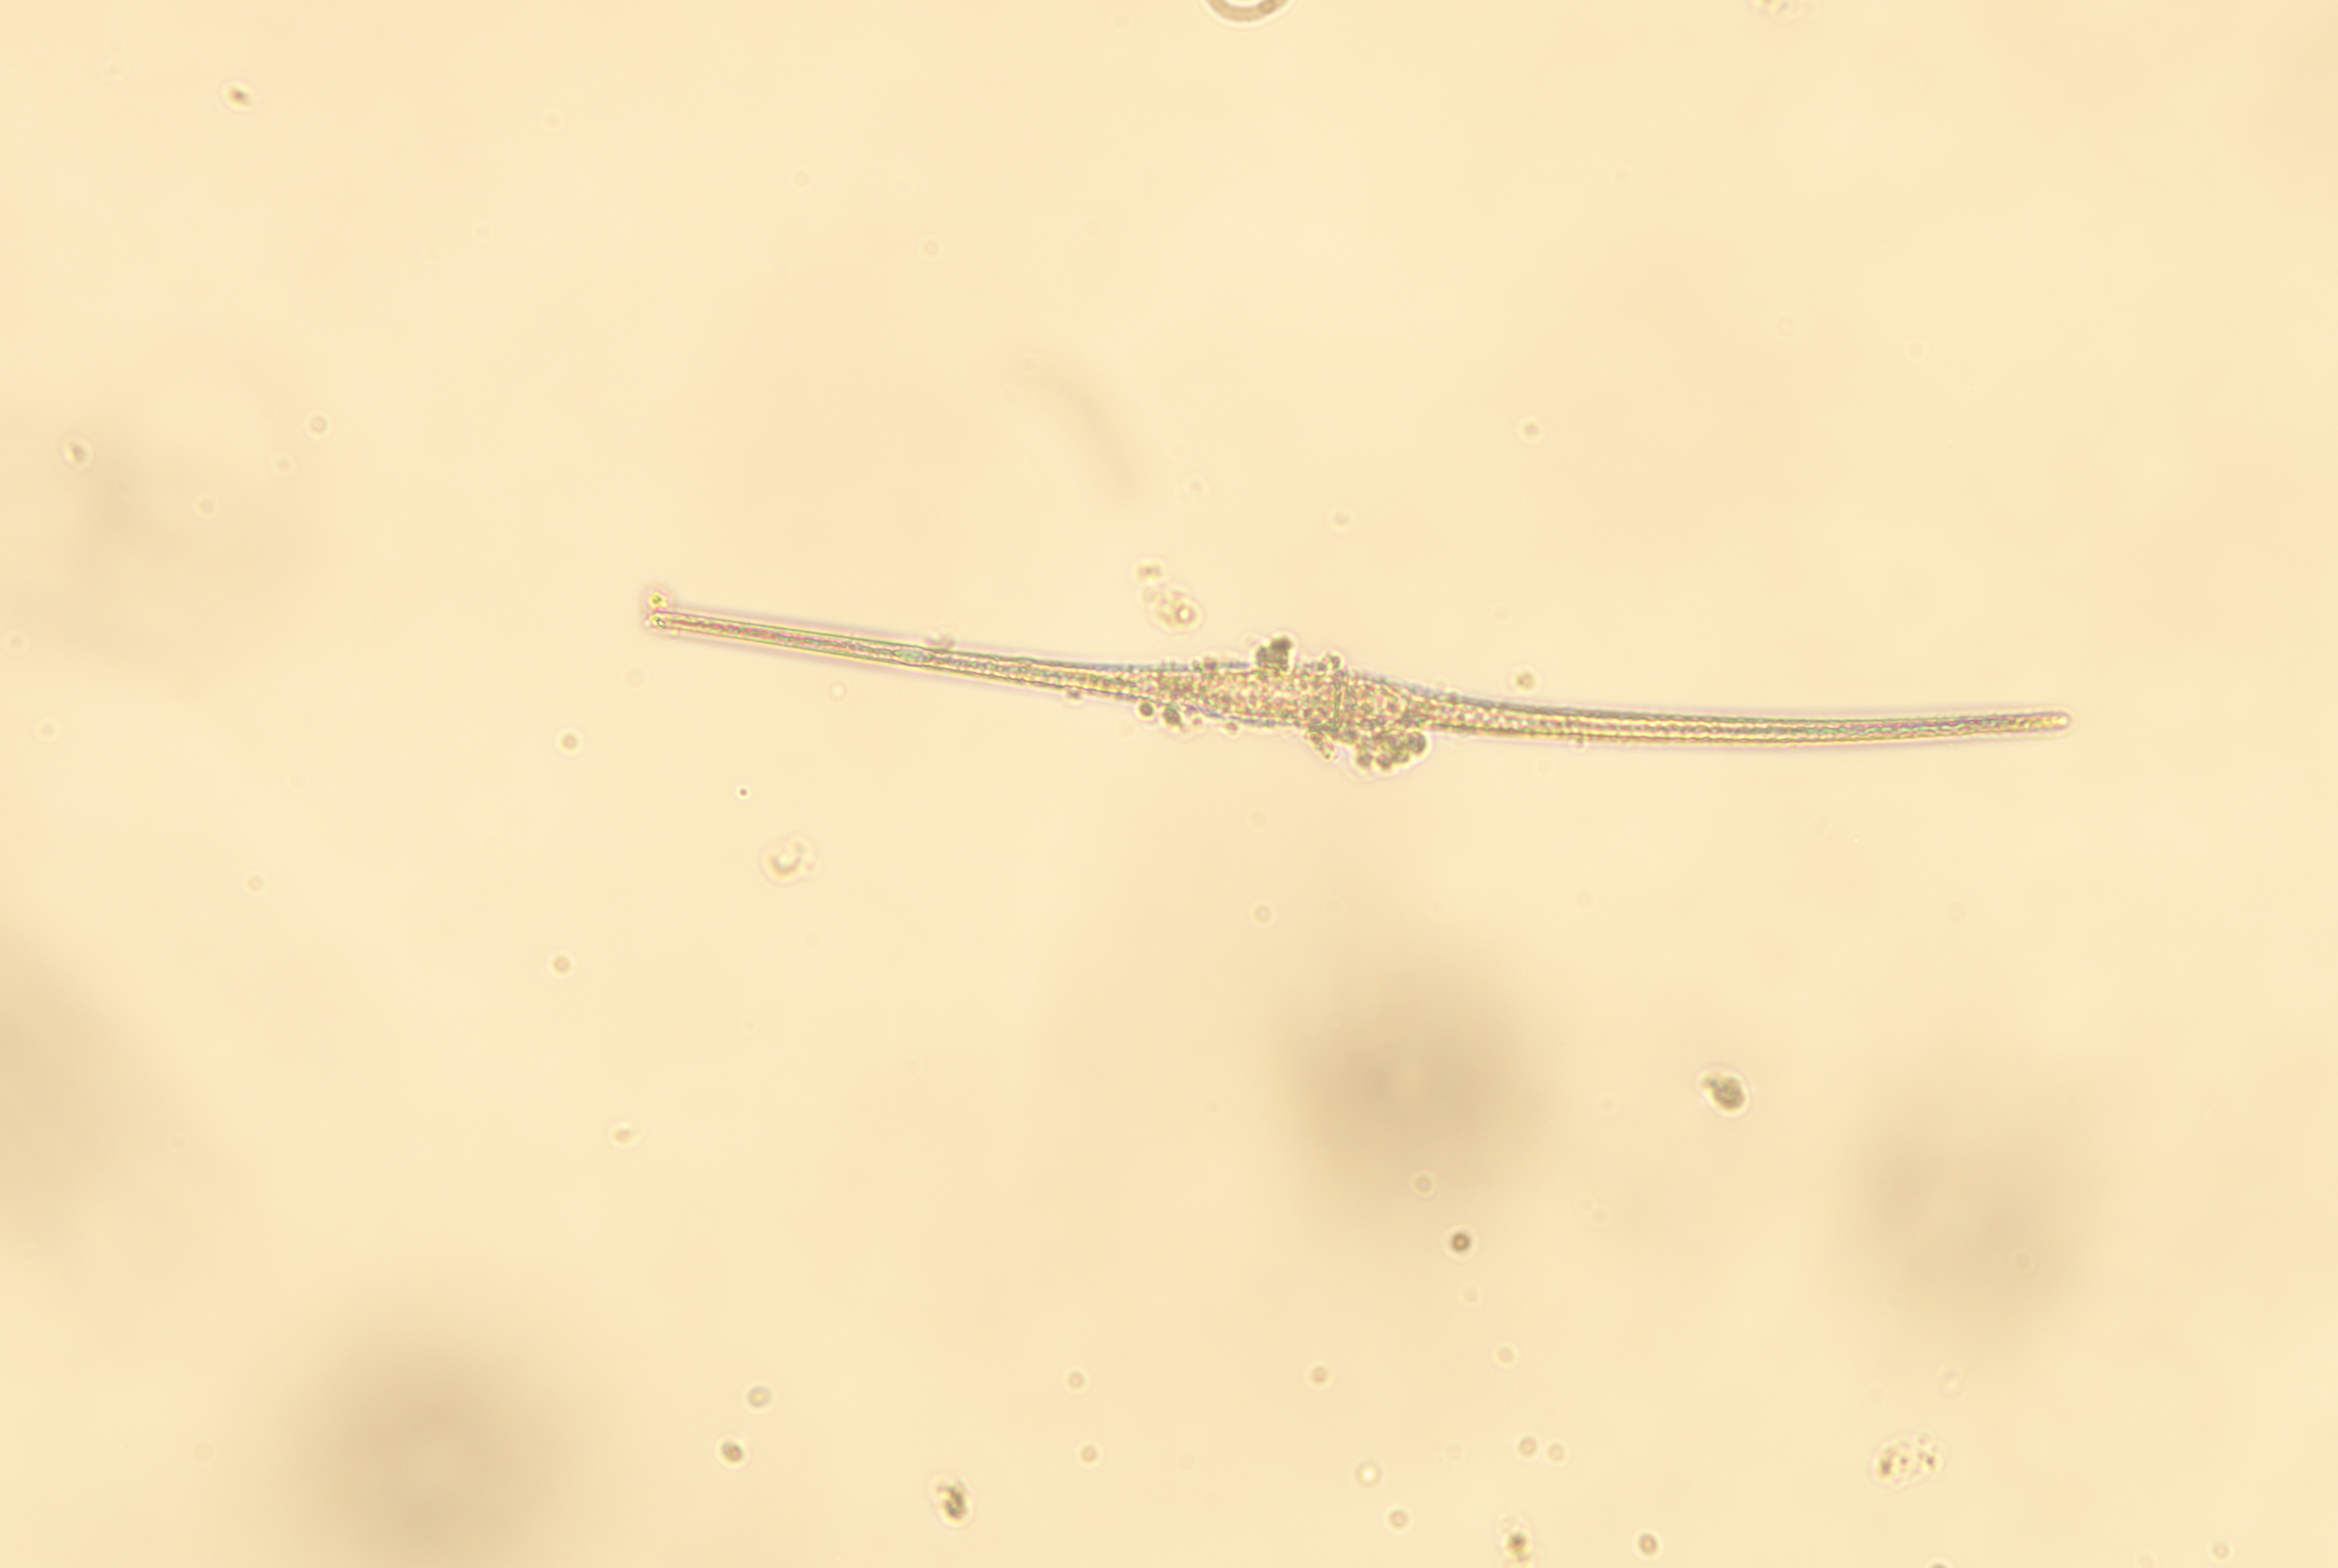ceratium fusus: (648, 604, 2074, 745)
